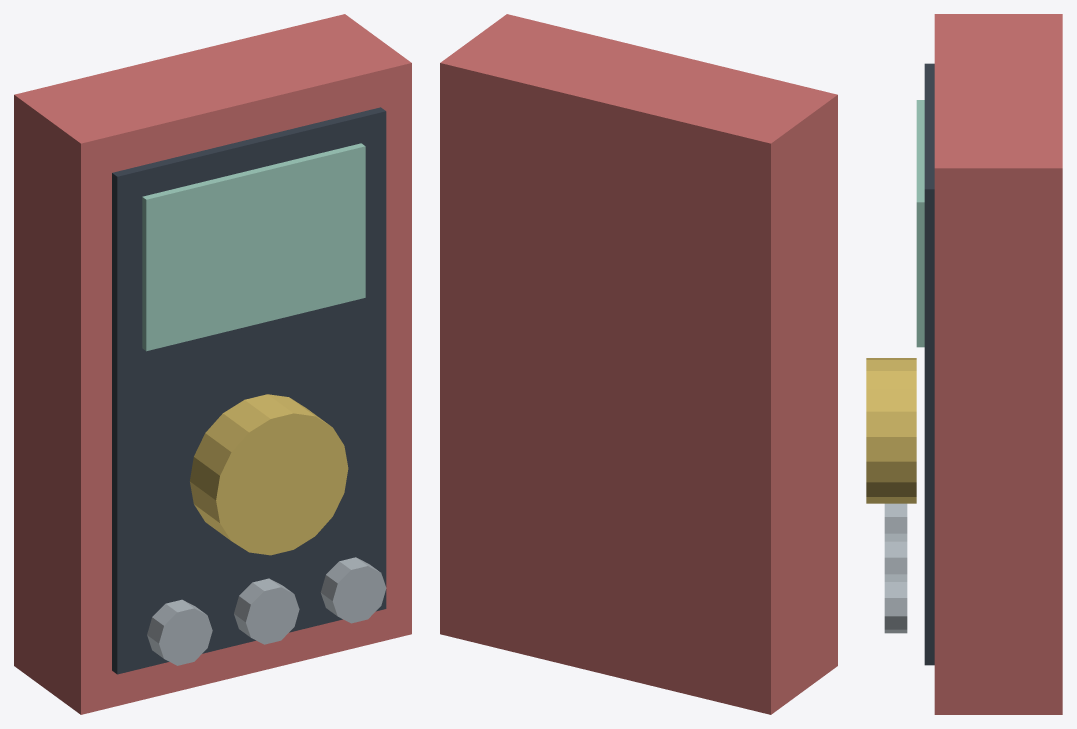
Rendered from multimeter.glb.
3 renders of one model, left to right at view 1: azimuth 30°, elevation 25°; view 2: azimuth 150°, elevation 25°; view 3: azimuth 270°, elevation 25°, orthographic. The views are drawn at different scales.
Parts seen in each view (by area): view 1: housing, face, lcd, selector, input0, input1, input2; view 2: housing; view 3: housing, selector, face, lcd, input2, input1, input0.
Boxes of the visible parts, bbox=[...] form: housing: bbox=[14, 14, 411, 714]; face: bbox=[112, 107, 386, 674]; lcd: bbox=[142, 143, 365, 351]; selector: bbox=[190, 394, 348, 555]; input0: bbox=[147, 599, 212, 665]; input1: bbox=[234, 578, 299, 644]; input2: bbox=[320, 557, 386, 623]; housing: bbox=[440, 14, 837, 714]; housing: bbox=[934, 14, 1062, 714]; selector: bbox=[866, 358, 916, 503]; face: bbox=[924, 63, 934, 665]; lcd: bbox=[916, 100, 924, 347]; input2: bbox=[884, 574, 907, 633]; input1: bbox=[884, 533, 907, 574]; input0: bbox=[884, 503, 907, 533].
Bounding box in the file's own units: 0.8 × 1.32 × 0.43.
